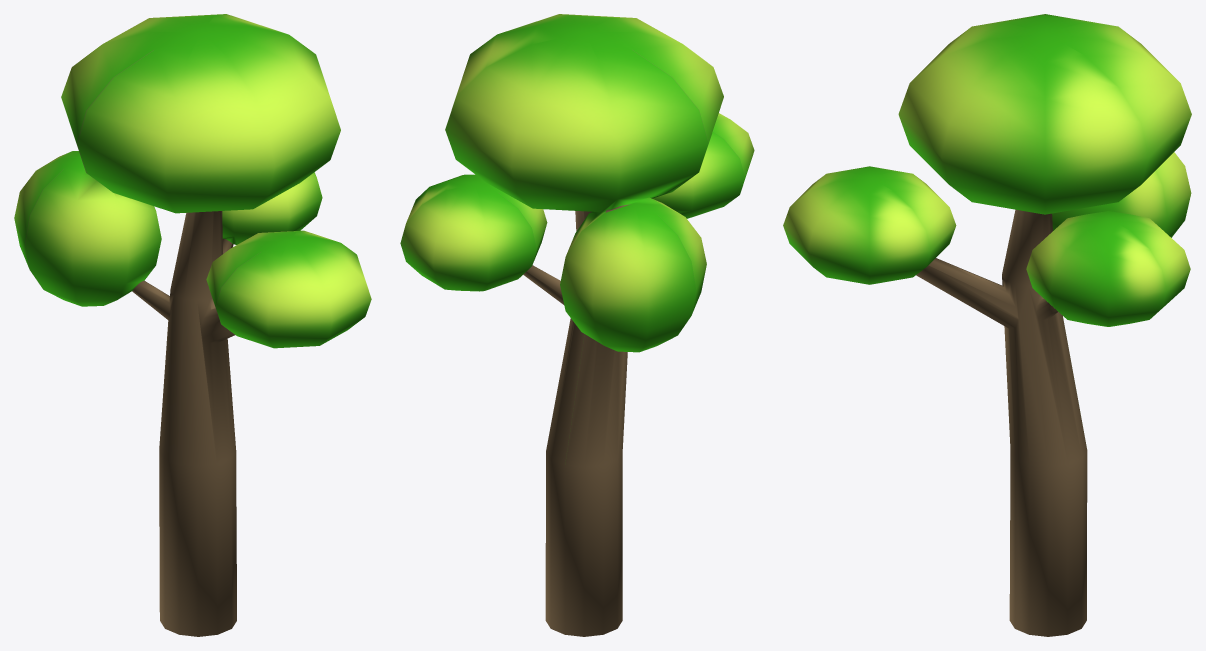
Rendered from Twisted_yellow_Tree.fbx.
3 views of the same model, side by side, from view 1: azimuth 30°, elevation 25°; view 2: azimuth 150°, elevation 25°; view 3: azimuth 270°, elevation 25° (orthographic).
Parts seen in each view (by area): view 1: Cylinder.003; view 2: Cylinder.003; view 3: Cylinder.003.
Boxes of the visible parts, left/top/right/bottom form: Cylinder.003: left=14, top=14, right=371, bottom=636; Cylinder.003: left=400, top=14, right=754, bottom=636; Cylinder.003: left=783, top=14, right=1191, bottom=636.
Size of the model in its own units: 528 by 1036 by 653.
